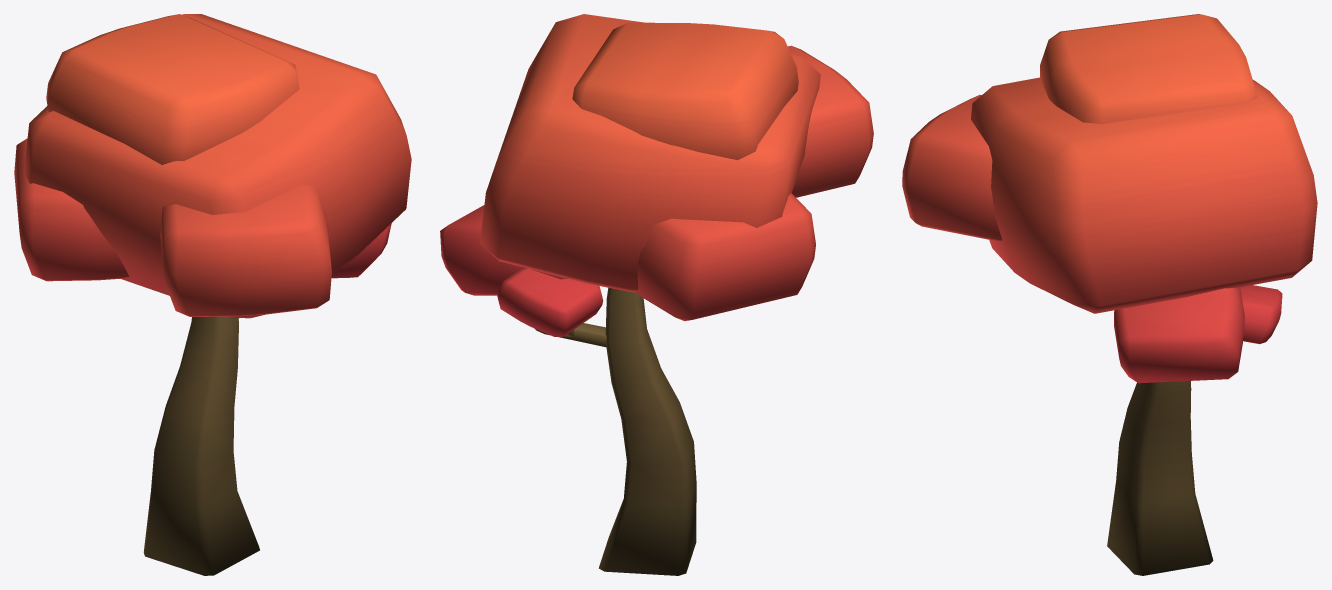
The model's file is Tree_2_2.obj.
The picture shows the model from 3 angles, left to right: view 1: azimuth 30°, elevation 25°; view 2: azimuth 150°, elevation 25°; view 3: azimuth 270°, elevation 25°; orthographic projection. The views are drawn at different scales.
Parts seen in each view (by area): view 1: Tree_2_2; view 2: Tree_2_2; view 3: Tree_2_2.
Boxes of the visible parts, x1,y1,x2,y2 form: Tree_2_2: [14, 14, 411, 575]; Tree_2_2: [440, 14, 873, 575]; Tree_2_2: [902, 14, 1317, 575].
Size of the model in its own units: 2.43 by 3.37 by 2.59.
